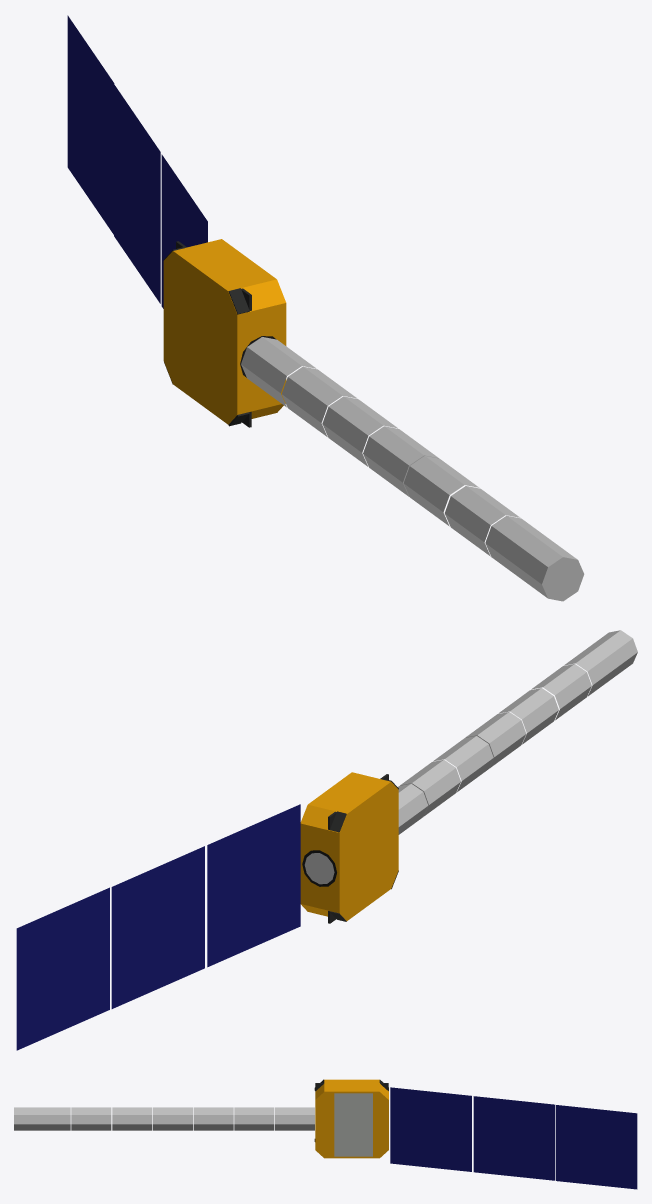
Rendered from orbcomm2_low.gltf.
3 renders of one model, top to bottom at view 1: azimuth 30°, elevation 25°; view 2: azimuth 150°, elevation 25°; view 3: azimuth 270°, elevation 25°, orthographic. The views are drawn at different scales.
Visible parts, largest first — view 1: Cube, Cube.023, Cube.021, Cylinder.010, Cube.019, Cylinder, Cylinder.003, Cylinder.008, Cylinder.009, Cylinder.001, Cylinder.002; view 2: Cube.023, Cube.019, Cube.021, Cube, Cylinder.010, Cylinder.001, Cylinder.003, Cylinder.008, Cylinder.009, Cylinder.002, Cylinder, Cylinder.005; view 3: Cube.020, Cube.018, Cube.022, Cube, Cube.011, Cylinder.010, Cylinder.001, Cylinder.002, Cylinder.008, Cylinder.009, Cylinder, Cylinder.003.
Boxes of the visible parts, left/top/right/bottom form: Cube: left=163, top=239, right=286, bottom=424; Cube.023: left=67, top=15, right=114, bottom=234; Cube.021: left=114, top=84, right=160, bottom=303; Cylinder.010: left=485, top=515, right=584, bottom=601; Cube.019: left=161, top=154, right=207, bottom=308; Cylinder: left=241, top=337, right=316, bottom=407; Cylinder.003: left=363, top=426, right=438, bottom=496; Cylinder.008: left=403, top=456, right=479, bottom=526; Cylinder.009: left=444, top=486, right=520, bottom=556; Cylinder.001: left=282, top=366, right=357, bottom=436; Cylinder.002: left=322, top=396, right=397, bottom=466; Cube.023: left=16, top=887, right=109, bottom=1050; Cube.019: left=207, top=804, right=300, bottom=967; Cube.021: left=111, top=846, right=204, bottom=1008; Cube: left=300, top=772, right=398, bottom=920; Cylinder.010: left=564, top=630, right=637, bottom=696; Cylinder.001: left=400, top=759, right=460, bottom=816; Cylinder.003: left=465, top=712, right=526, bottom=768; Cylinder.008: left=498, top=688, right=558, bottom=744; Cylinder.009: left=531, top=664, right=591, bottom=720; Cylinder.002: left=433, top=736, right=493, bottom=791; Cylinder: left=398, top=783, right=428, bottom=834; Cylinder.005: left=304, top=853, right=334, bottom=884; Cube.020: left=473, top=1096, right=555, bottom=1180; Cube.018: left=390, top=1087, right=471, bottom=1171; Cube.022: left=556, top=1105, right=637, bottom=1189; Cube: left=315, top=1079, right=388, bottom=1158; Cube.011: left=334, top=1093, right=372, bottom=1156; Cylinder.010: left=14, top=1107, right=70, bottom=1130; Cylinder.001: left=234, top=1107, right=274, bottom=1130; Cylinder.002: left=193, top=1107, right=233, bottom=1130; Cylinder.008: left=112, top=1107, right=152, bottom=1130; Cylinder.009: left=71, top=1107, right=111, bottom=1130; Cylinder: left=275, top=1107, right=314, bottom=1130; Cylinder.003: left=153, top=1107, right=192, bottom=1130.
Bounding box in the file's own units: 2.46 × 2.28 × 16.95.
